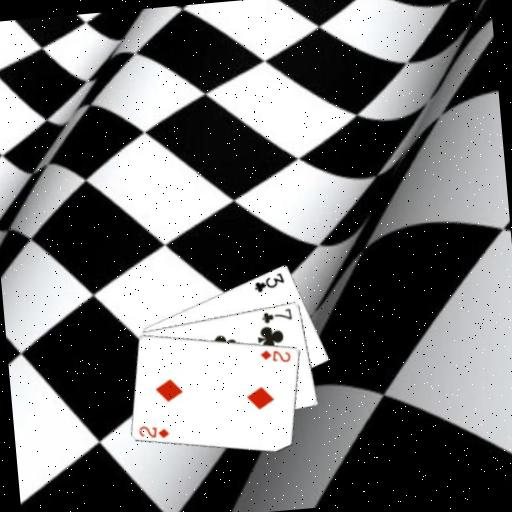2D: (136, 421, 172, 442), (257, 345, 292, 366)
3C: (251, 269, 288, 294)
7C: (259, 305, 294, 325)
